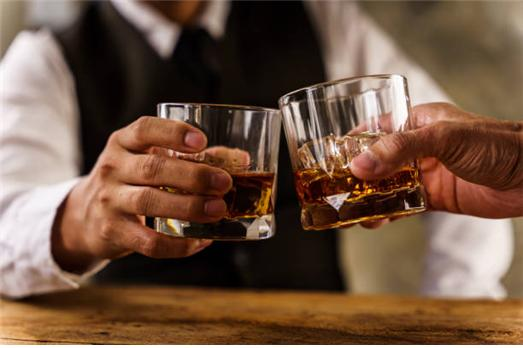alcohol: (280, 73, 428, 230), (159, 101, 282, 242)
